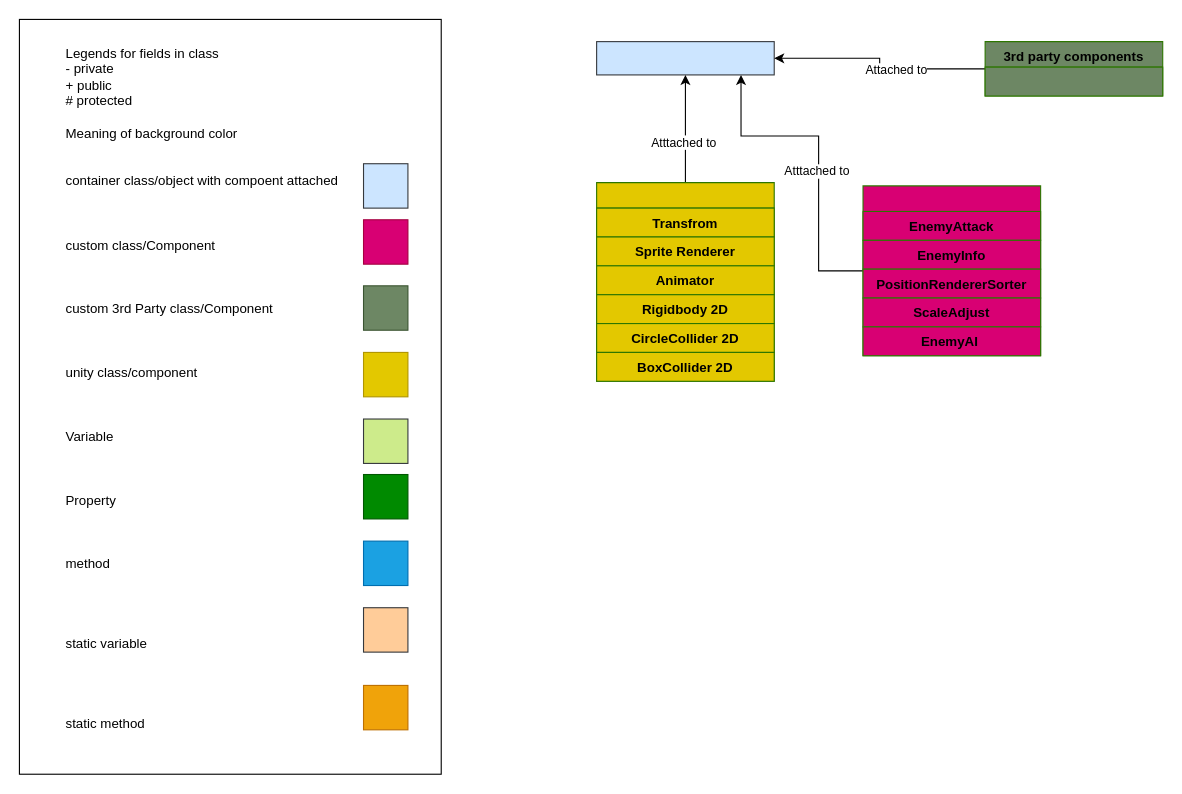
Image size: 1182x794. Some labels were removed from this diagram. Each missing label, with the box of its shape:
Custom Components: (862, 185, 1041, 356)
EnemyRunToPlayer: (596, 41, 774, 75)
Seeker: (984, 66, 1163, 96)
Unity Components: (596, 181, 774, 381)
